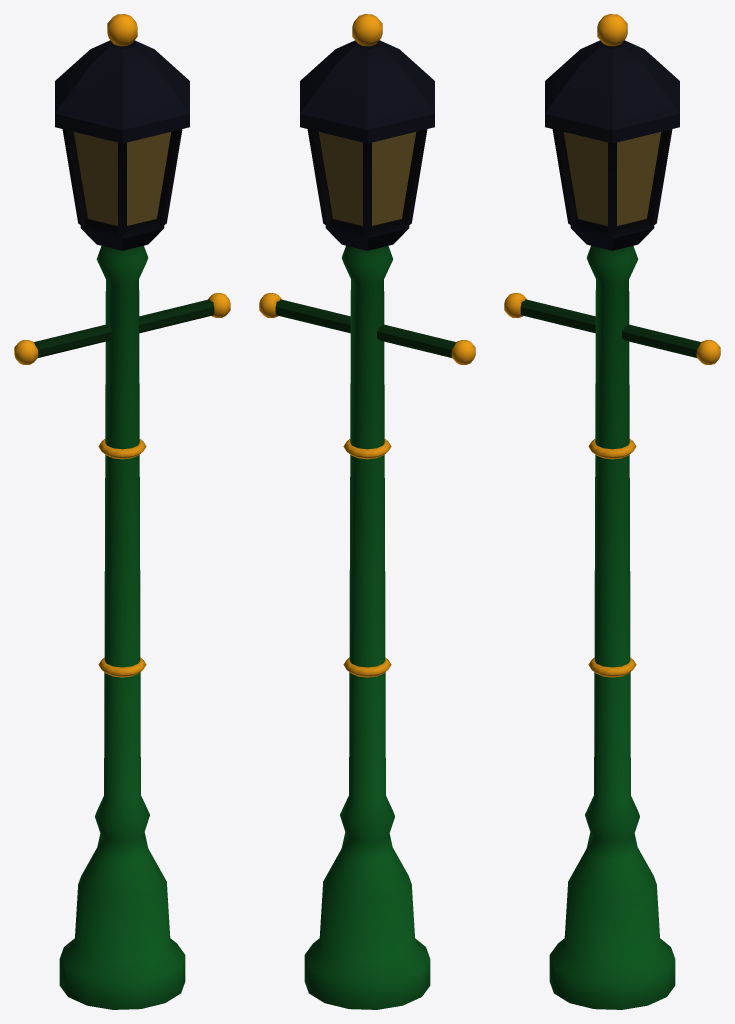
The model's file is Lamp.fbx.
3 views of the same model, side by side, from view 1: azimuth 30°, elevation 25°; view 2: azimuth 150°, elevation 25°; view 3: azimuth 330°, elevation 25° (orthographic).
Visible parts, largest first — view 1: Lamp, LampHead; view 2: Lamp, LampHead; view 3: Lamp, LampHead.
Part boxes in pixels (<box>): Lamp: <box>14,245,230,1009</box>; LampHead: <box>55,14,189,250</box>; Lamp: <box>259,245,475,1009</box>; LampHead: <box>300,14,434,250</box>; Lamp: <box>504,245,720,1009</box>; LampHead: <box>545,14,679,250</box>.
Size of the model in its own units: 0.6666 by 2.88 by 0.3637.
